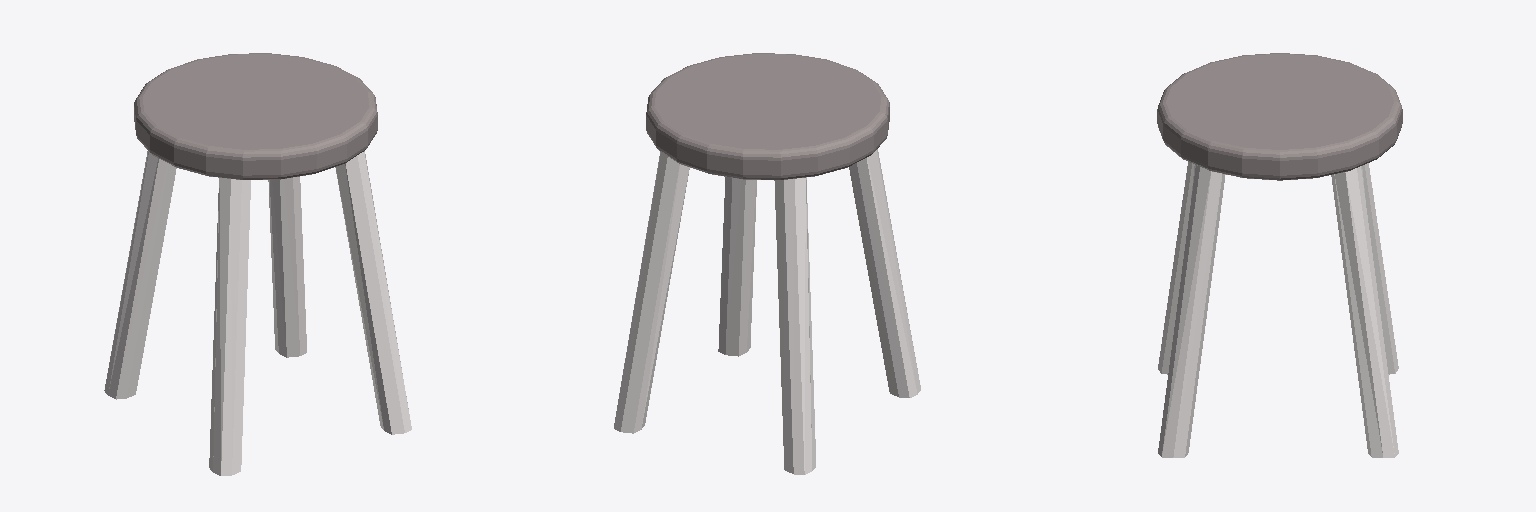
File: Stool_A.obj
The picture shows the model from 3 angles: view 1: azimuth 30°, elevation 25°; view 2: azimuth 150°, elevation 25°; view 3: azimuth 270°, elevation 25°; orthographic projection.
Visible parts, largest first — view 1: Stool_A; view 2: Stool_A; view 3: Stool_A.
Part boxes in pixels (bbox=[...]): Stool_A: bbox=[104, 53, 411, 475]; Stool_A: bbox=[614, 53, 920, 474]; Stool_A: bbox=[1157, 53, 1402, 457].
Bounding box in the file's own units: 9.46 × 13.13 × 9.46.